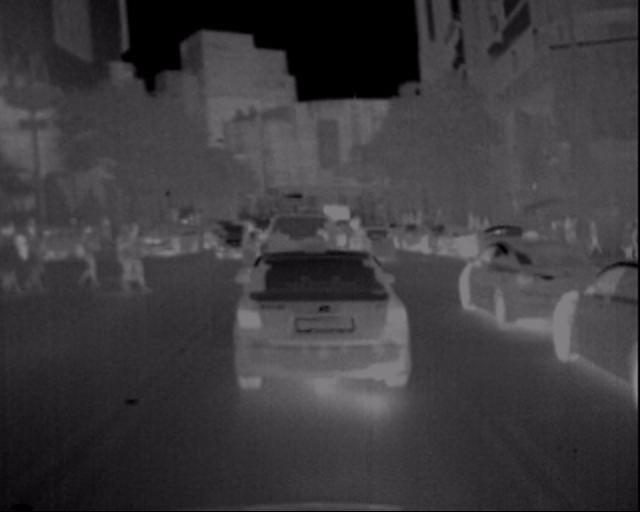person: (546, 189, 639, 263), (0, 218, 52, 305), (108, 216, 160, 302), (64, 214, 114, 300), (312, 219, 349, 317), (232, 213, 269, 298), (346, 206, 379, 294), (104, 219, 140, 299), (323, 222, 356, 302)
